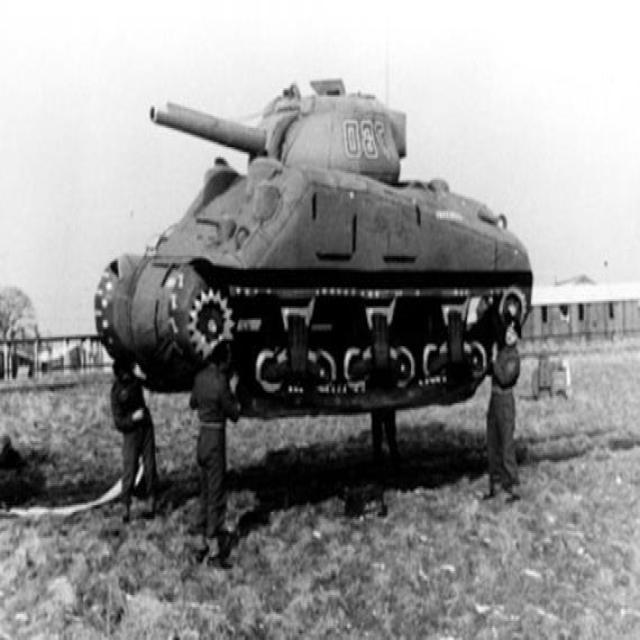Tanks: (96, 73, 552, 382)
